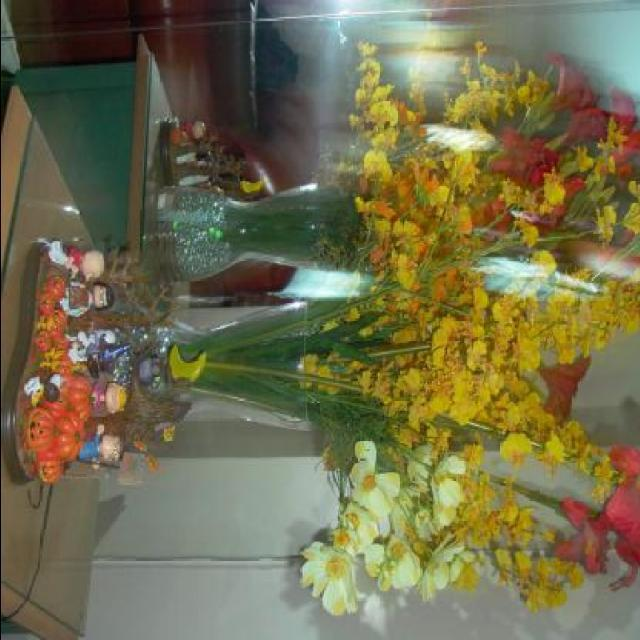Pumpkin: (22, 276, 98, 478)
